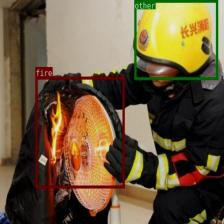fire: (35, 76, 124, 188)
